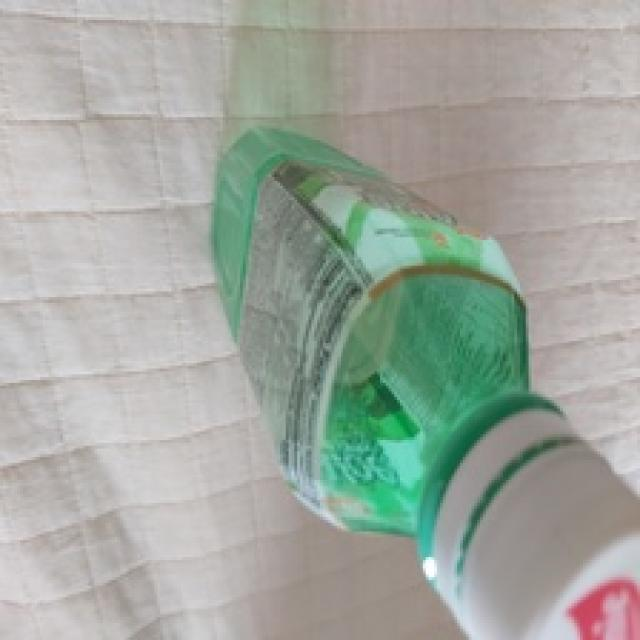Plastic: (211, 121, 640, 640)
